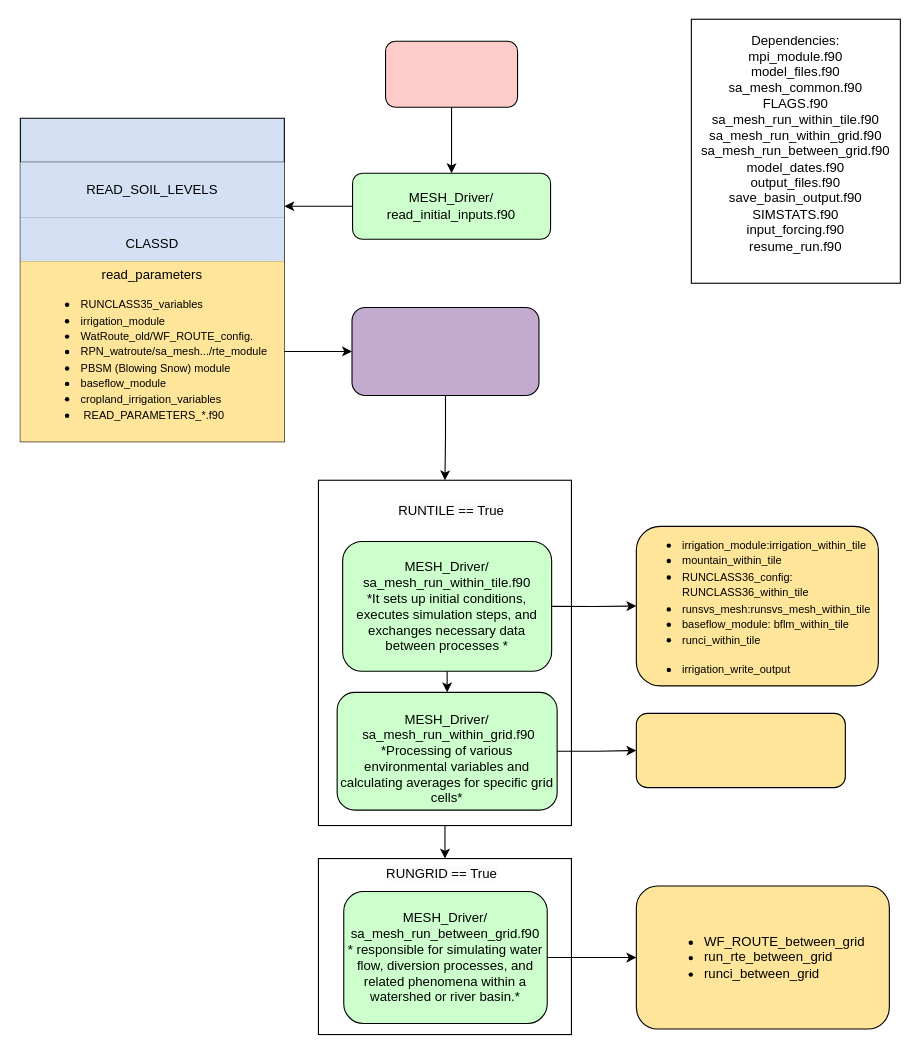
Some shapes in this 920 by 1054 pixel diagram are drawn without their labels. The box of each missing label's shape, as (x1, y1, x2, y2) in pixels:
baseflow_module: bflm_within_grid: (635, 712, 845, 788)
MESH_driver.f90: (384, 40, 518, 107)
READ_RUN_OPTIONS: (19, 117, 284, 442)
reads MESH_drainage_database.r2c: (351, 306, 539, 395)
